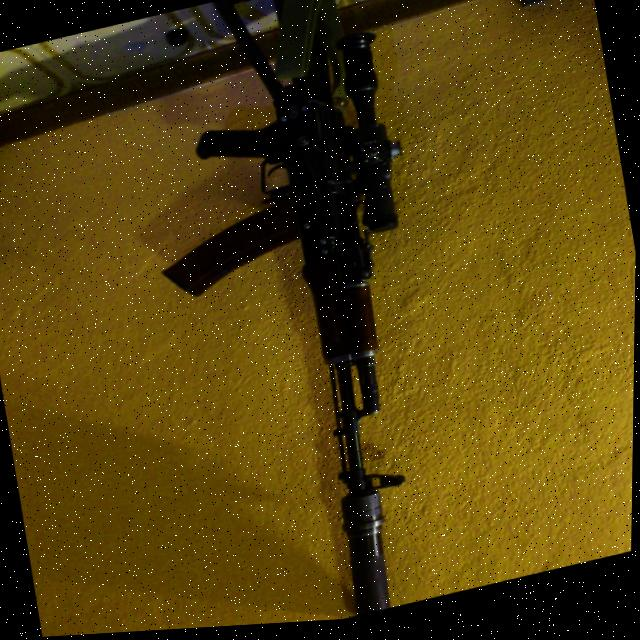firearm: (116, 0, 489, 634)
